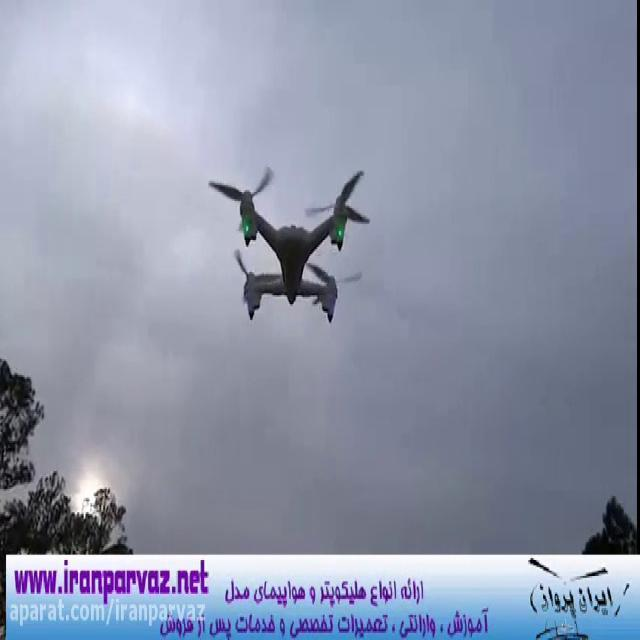drone: (205, 164, 374, 324)
